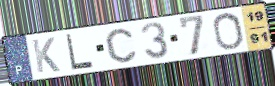3: (140, 21, 170, 60)
7: (177, 13, 207, 57)
C: (104, 27, 138, 64)
K: (30, 36, 62, 75)
L: (65, 32, 96, 71)
O: (211, 11, 246, 51)
